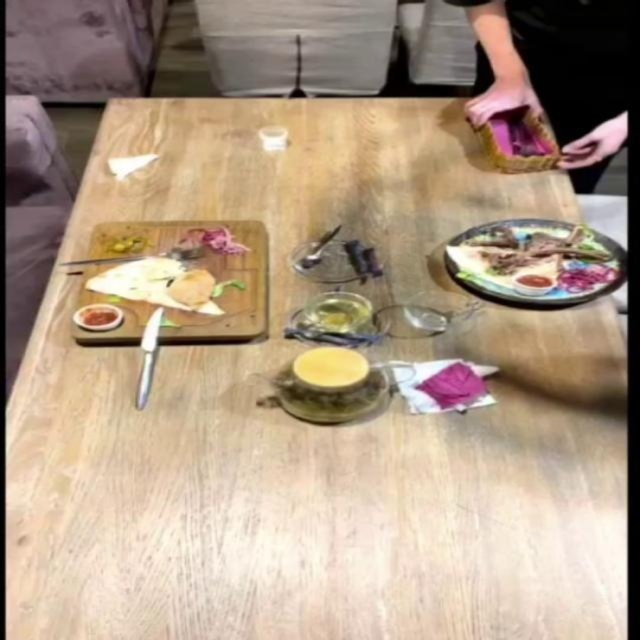meat: (64, 216, 274, 342), (443, 215, 629, 333)
tea: (258, 336, 421, 464)
